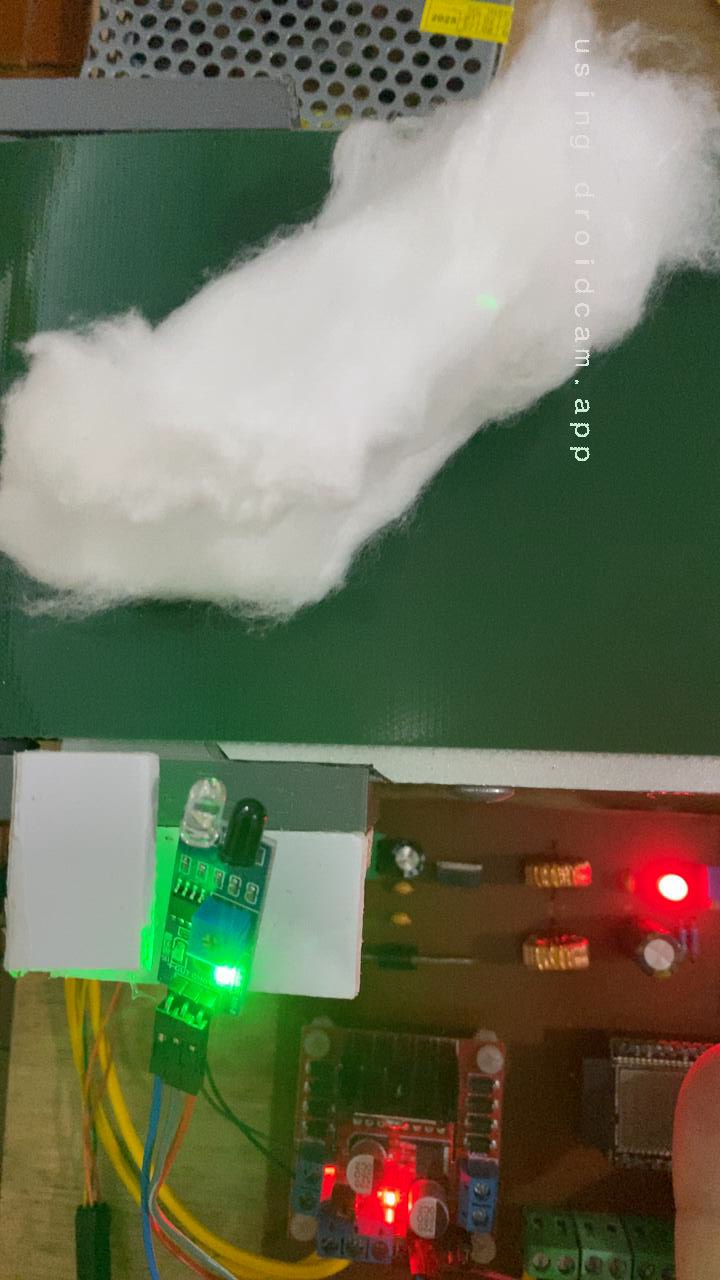cotton: (0, 131, 720, 620)
